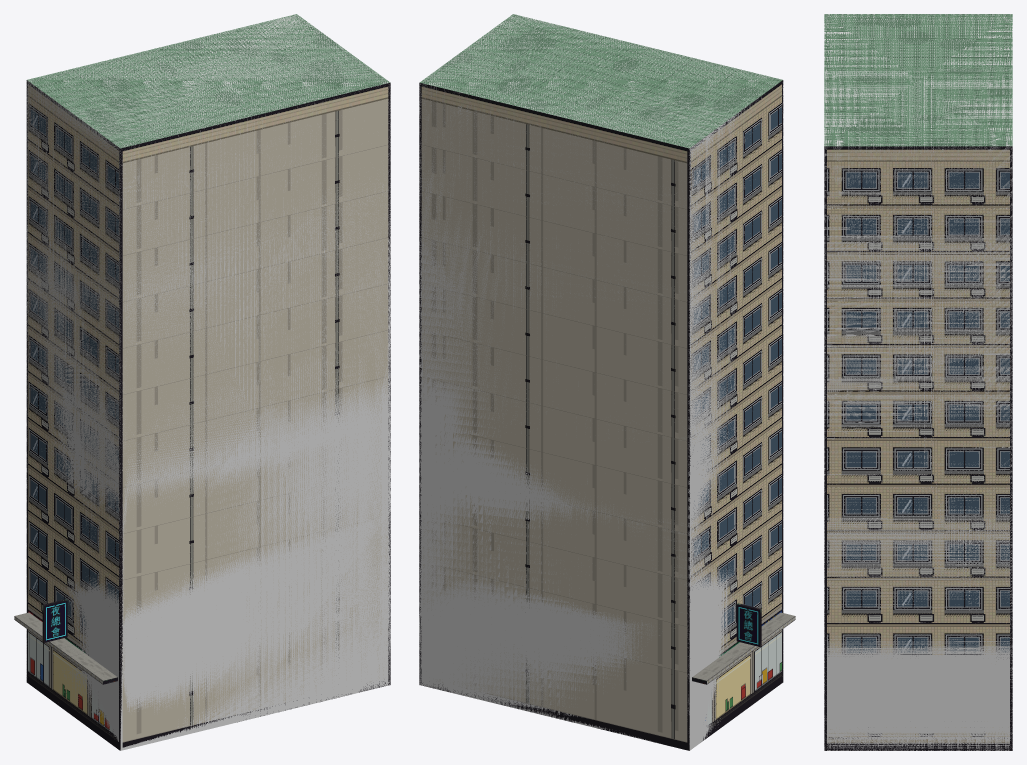
3 views of the same model, side by side, from view 1: azimuth 30°, elevation 25°; view 2: azimuth 150°, elevation 25°; view 3: azimuth 270°, elevation 25° (orthographic).
Parts seen in each view (by area): view 1: 19D-E23, COL_19D-E23_0; view 2: 19D-E23, COL_19D-E23_0; view 3: 19D-E23, COL_19D-E23_0.
Boxes of the visible parts, bbox=[...] form: 19D-E23: bbox=[14, 14, 390, 750]; COL_19D-E23_0: bbox=[26, 14, 390, 750]; 19D-E23: bbox=[419, 14, 795, 750]; COL_19D-E23_0: bbox=[419, 14, 783, 750]; 19D-E23: bbox=[824, 14, 1012, 750]; COL_19D-E23_0: bbox=[824, 14, 1012, 750].
Bounding box in the file's own units: 20.15 × 39 × 11.
Materials: 1 (1 with a texture image).
